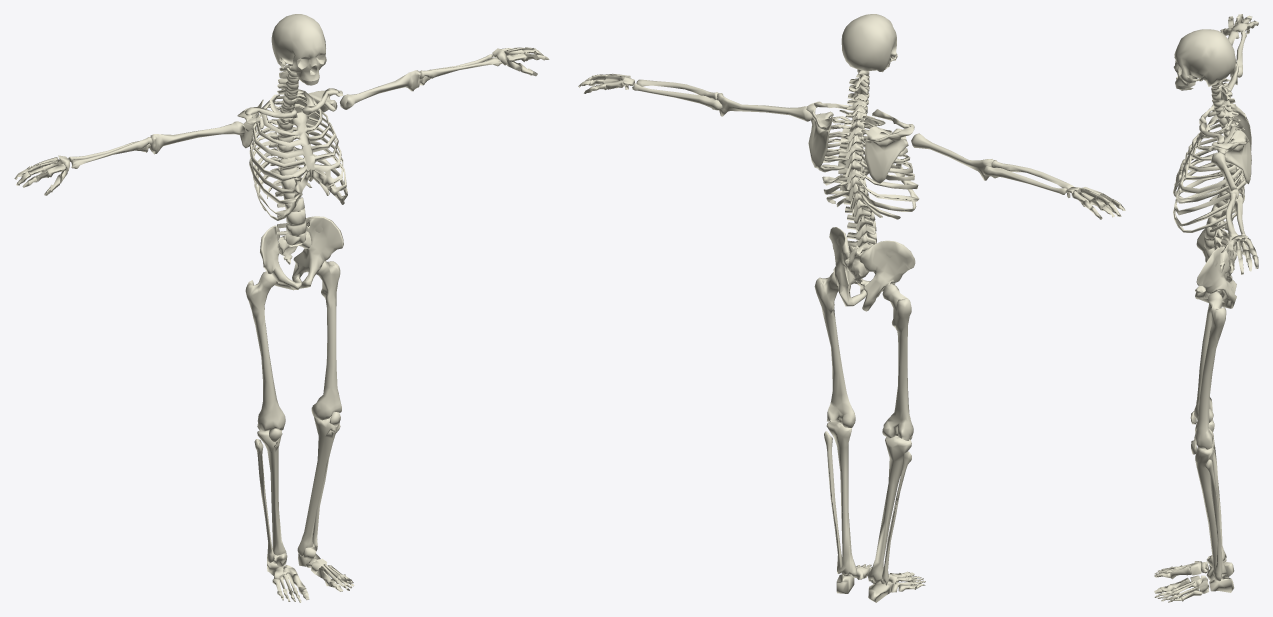
File: skeleton.fbx
The picture shows the model from 3 angles, left to right: view 1: azimuth 30°, elevation 25°; view 2: azimuth 150°, elevation 25°; view 3: azimuth 270°, elevation 25°; orthographic projection. The views are drawn at different scales.
Visible parts, largest first — view 1: polySurface4, R_da_tui, L__da_tui, polySurface83, polySurface82, Ji_zhu_gu, pen_gu, polySurface28; view 2: R_da_tui, L__da_tui, polySurface83, Ji_zhu_gu, polySurface82, pen_gu, polySurface4, polySurface28; view 3: L__da_tui, polySurface4, polySurface82, polySurface28, Ji_zhu_gu, R_da_tui, pen_gu, polySurface83.
Boxes of the visible parts, x1=… form: polySurface4: x1=249, y1=89, x2=347, y2=220; R_da_tui: x1=245, y1=271, x2=309, y2=602; L__da_tui: x1=297, y1=260, x2=354, y2=591; polySurface83: x1=14, y1=99, x2=297, y2=195; polySurface82: x1=294, y1=47, x2=549, y2=127; Ji_zhu_gu: x1=268, y1=64, x2=311, y2=264; pen_gu: x1=260, y1=216, x2=343, y2=290; polySurface28: x1=271, y1=14, x2=326, y2=81; R_da_tui: x1=868, y1=283, x2=925, y2=602; L__da_tui: x1=814, y1=272, x2=872, y2=593; polySurface83: x1=864, y1=109, x2=1125, y2=219; Ji_zhu_gu: x1=838, y1=69, x2=876, y2=284; polySurface82: x1=578, y1=73, x2=867, y2=168; pen_gu: x1=829, y1=227, x2=915, y2=311; polySurface4: x1=818, y1=110, x2=919, y2=211; polySurface28: x1=841, y1=14, x2=897, y2=72; L__da_tui: x1=1154, y1=291, x2=1234, y2=602; polySurface4: x1=1173, y1=109, x2=1245, y2=232; polySurface82: x1=1199, y1=123, x2=1258, y2=274; polySurface28: x1=1173, y1=29, x2=1235, y2=86; Ji_zhu_gu: x1=1204, y1=78, x2=1251, y2=280; R_da_tui: x1=1154, y1=304, x2=1234, y2=579; pen_gu: x1=1195, y1=228, x2=1236, y2=308; polySurface83: x1=1199, y1=14, x2=1258, y2=150.
Bounding box in the file's own units: 4.18 × 4.24 × 0.7251.
